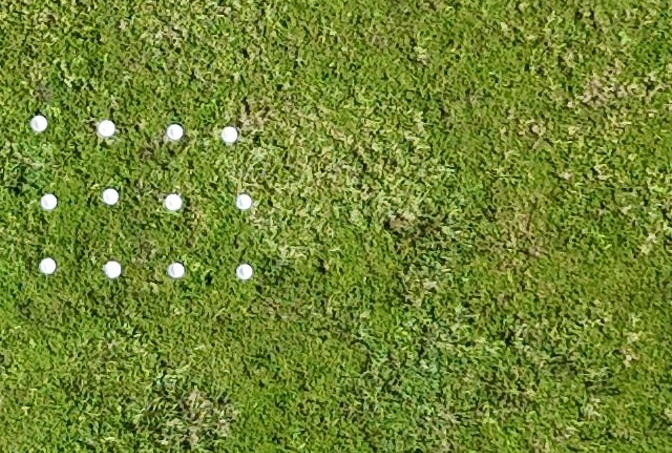bowl: (103, 261, 122, 279), (165, 194, 183, 211), (39, 258, 56, 275), (98, 120, 115, 137), (41, 194, 58, 210), (31, 115, 48, 131), (103, 188, 119, 205), (167, 124, 184, 140), (236, 263, 253, 279), (221, 126, 237, 143), (236, 194, 252, 210), (168, 263, 184, 278)
